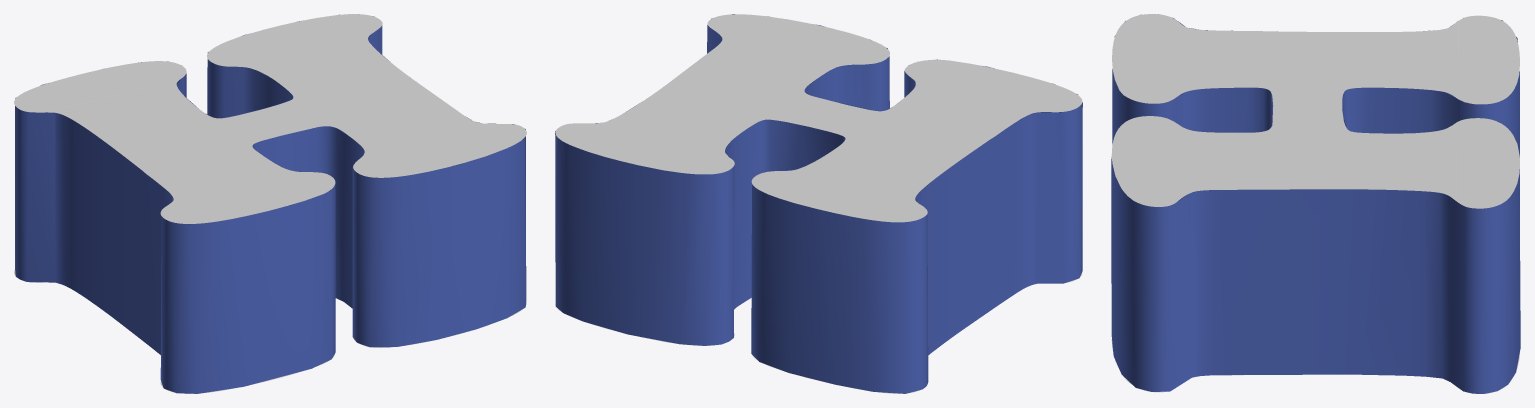
3 renders of one model, left to right at view 1: azimuth 30°, elevation 25°; view 2: azimuth 150°, elevation 25°; view 3: azimuth 270°, elevation 25°, orthographic. The views are drawn at different scales.
Parts seen in each view (by area): view 1: H; view 2: H; view 3: H.
Boxes of the visible parts, box(x1,y1,x2,y2) form: H: box(14, 14, 526, 393); H: box(555, 14, 1082, 393); H: box(1111, 14, 1520, 393).
Size of the model in its own units: 1.66 by 0.7364 by 1.47.
